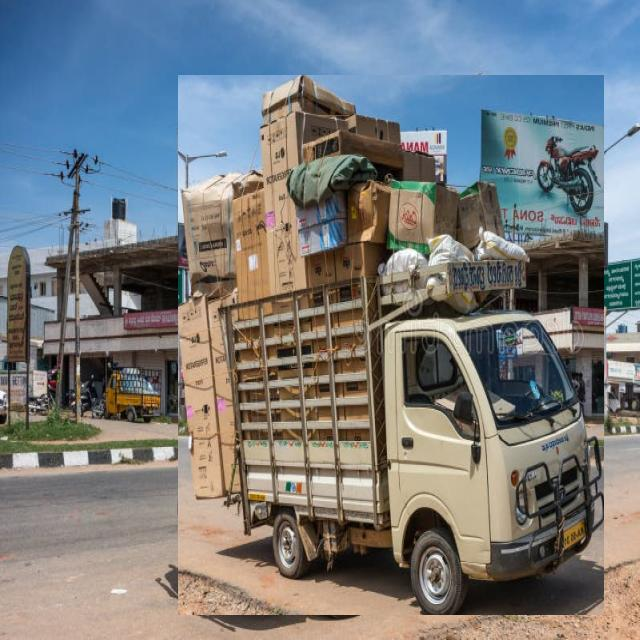truck: (179, 75, 604, 615), (106, 367, 161, 422)
